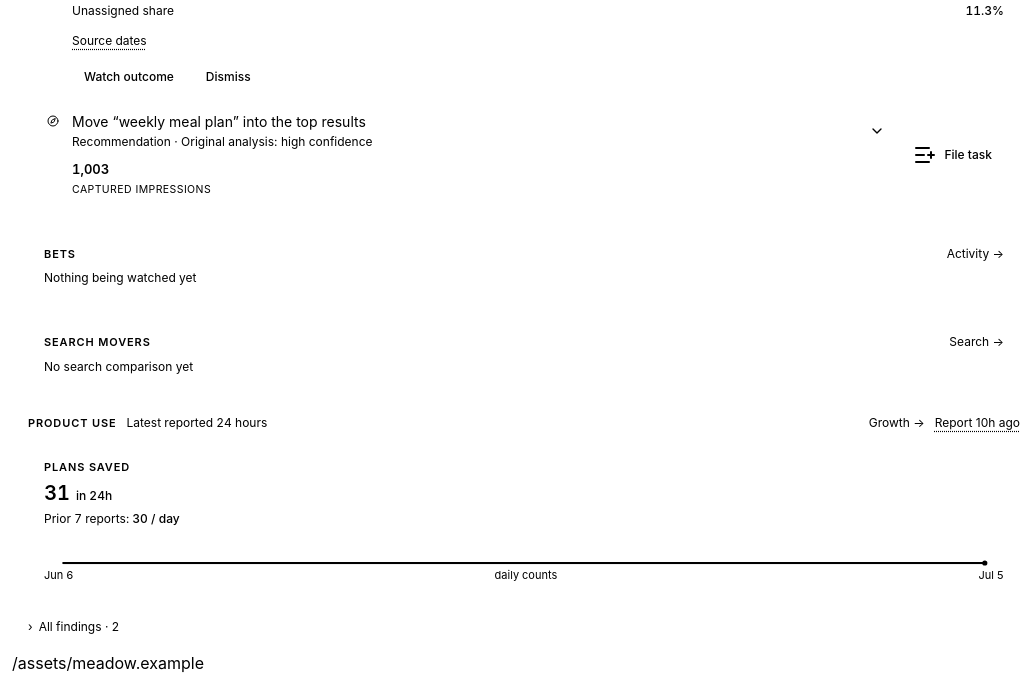
Test: Asset Overview — explanations are disclosed, essential context stays visible › keeps report freshness visible while hiding long explanatory paragraphs
(page scrolled)
Expected: the text "Report received" is not shown
Click the button with aria-label "About product reports".
click(977, 423)  # box x1=935 y1=411 x2=1020 y2=435
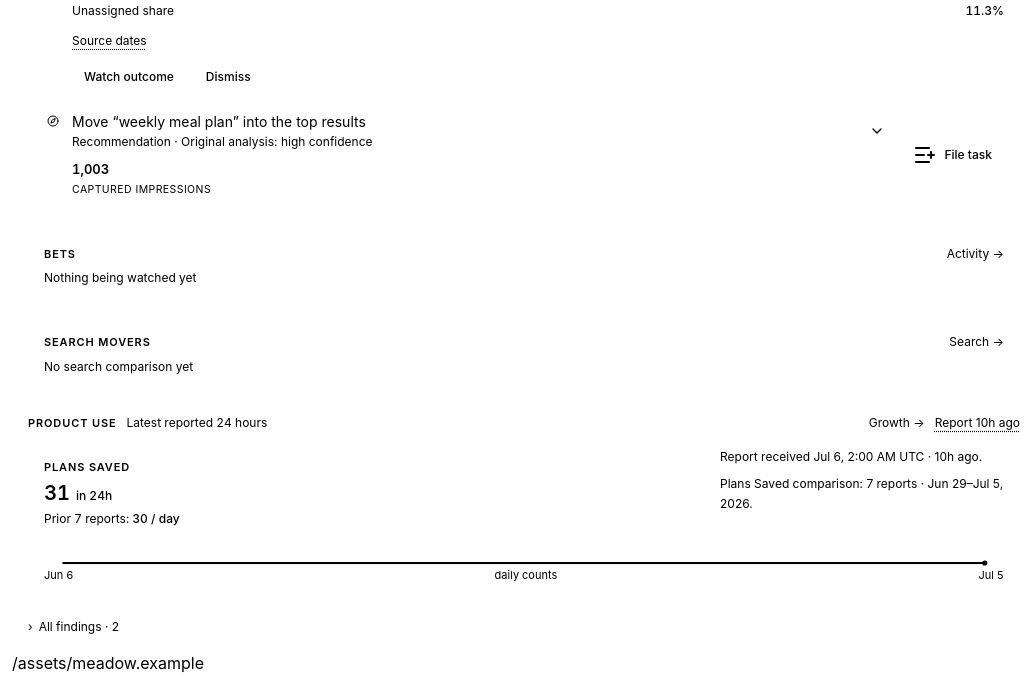
Result: the tooltip shows "Report received" at x1=720 y1=449 x2=982 y2=464
